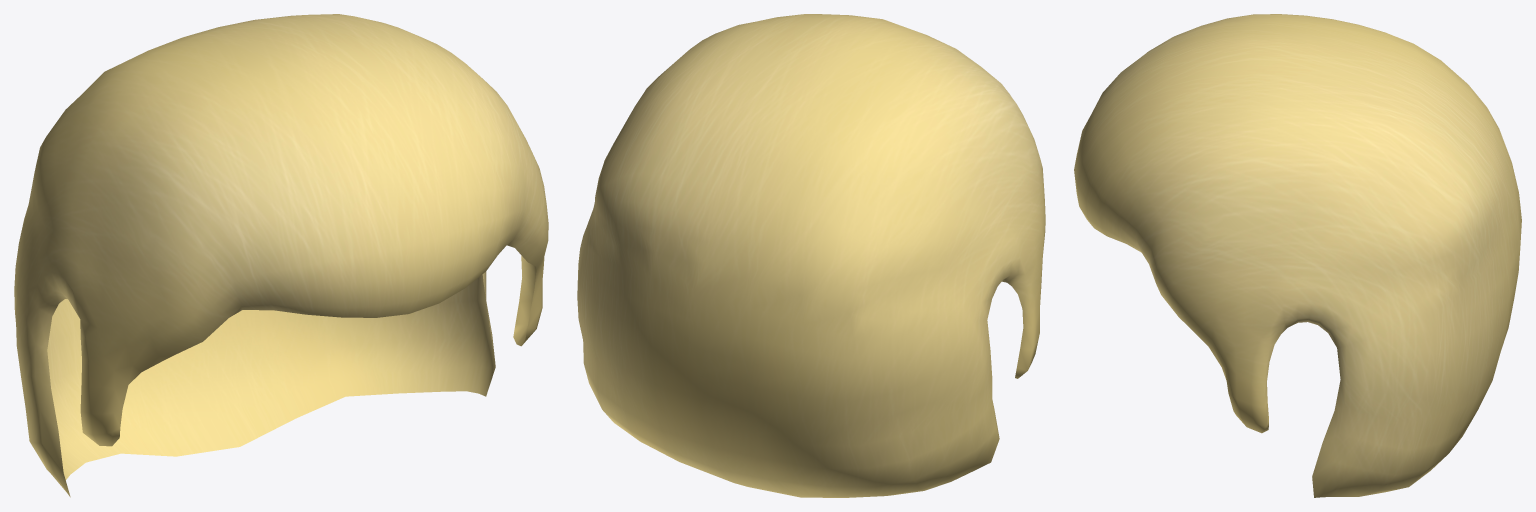
File: Boy Hair 07.glb
3 renders of one model, left to right at view 1: azimuth 30°, elevation 25°; view 2: azimuth 150°, elevation 25°; view 3: azimuth 270°, elevation 25°, orthographic. The views are drawn at different scales.
Visible parts, largest first — view 1: BoysHair7; view 2: BoysHair7; view 3: BoysHair7.
Part boxes in pixels (bbox=[...]): BoysHair7: bbox=[14, 14, 548, 497]; BoysHair7: bbox=[577, 14, 1045, 497]; BoysHair7: bbox=[1074, 14, 1521, 497].
Size of the model in its own units: 0.00847 by 0.00818 by 0.00823.
1 material, 1 textured.
